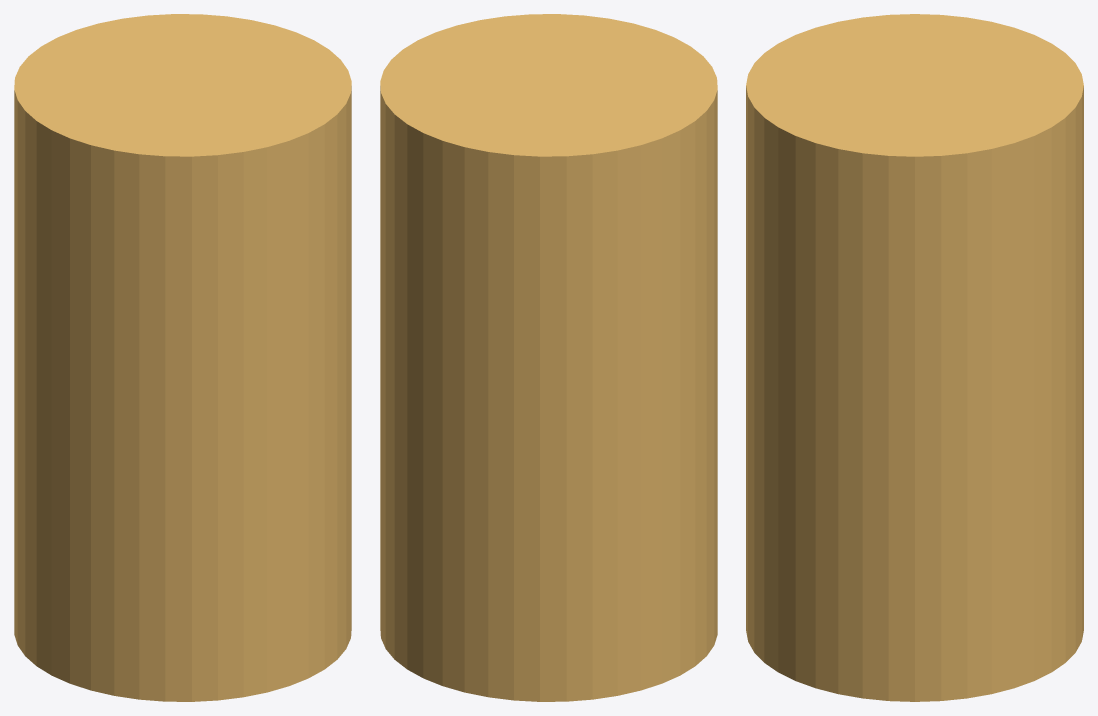
The model's file is med_pill_bottle_0099.glb.
3 views of the same model, side by side, from view 1: azimuth 30°, elevation 25°; view 2: azimuth 150°, elevation 25°; view 3: azimuth 270°, elevation 25° (orthographic).
Parts seen in each view (by area): view 1: z-up-to-y-up; view 2: z-up-to-y-up; view 3: z-up-to-y-up.
Boxes of the visible parts, left/top/right/bottom form: z-up-to-y-up: left=14, top=14, right=351, bottom=701; z-up-to-y-up: left=380, top=14, right=717, bottom=701; z-up-to-y-up: left=746, top=14, right=1083, bottom=701.
Bounding box in the file's own units: 0.0495 × 0.0881 × 0.0495.
